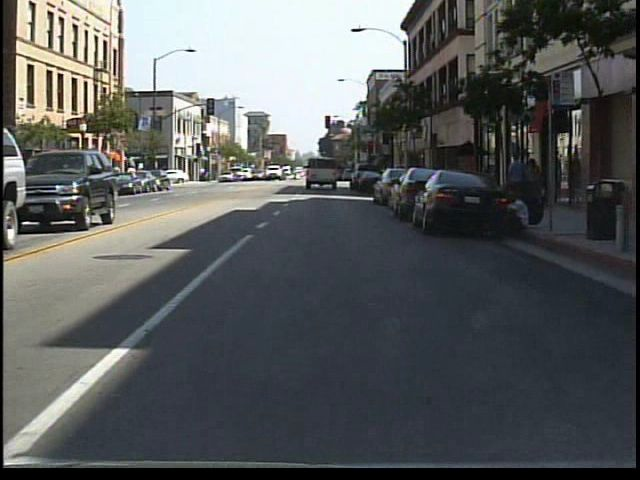person: (501, 147, 527, 214), (521, 156, 545, 214)
